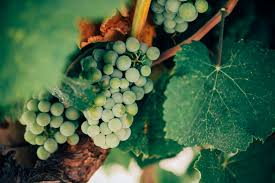grapes: (81, 47, 156, 146), (27, 96, 79, 154), (154, 1, 209, 33)
